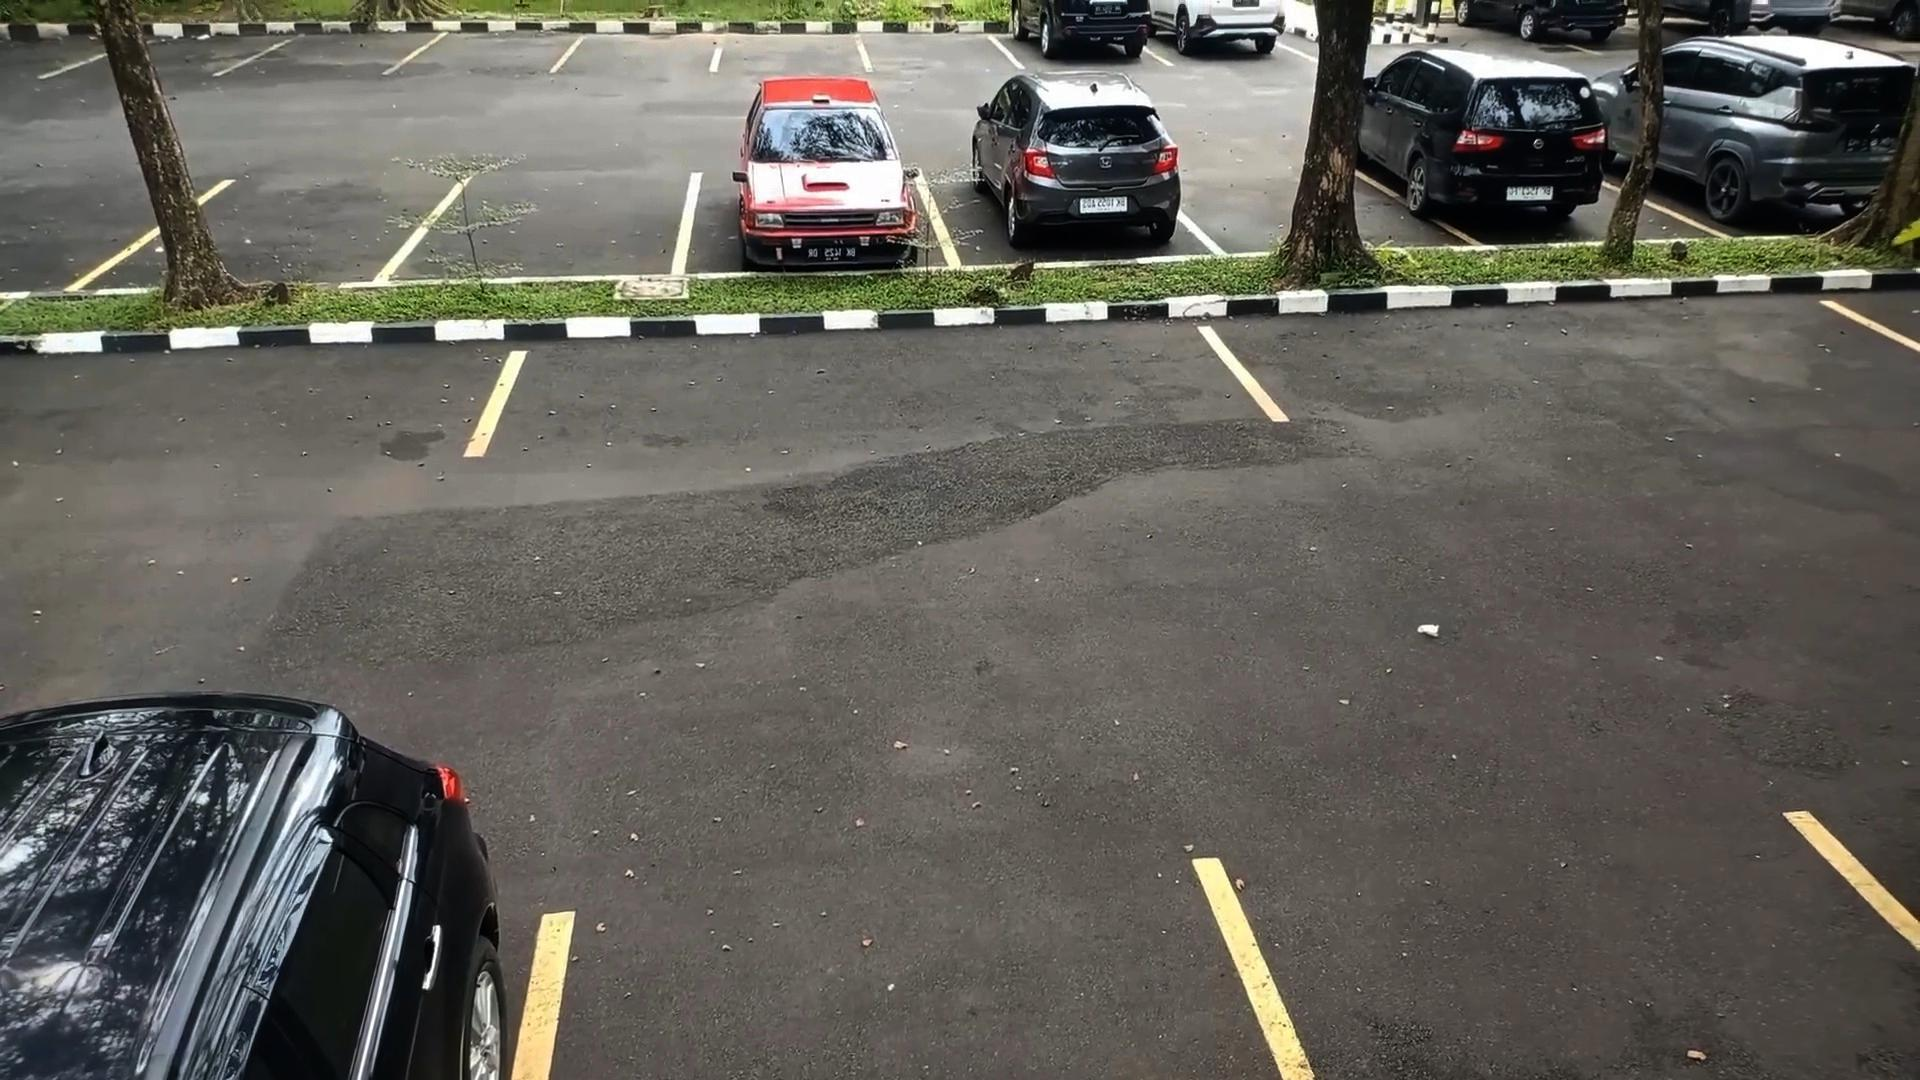empty: (485, 300, 1240, 446), (1244, 289, 1920, 437), (150, 167, 421, 289), (418, 160, 681, 276)
occupied: (1651, 53, 1896, 237), (1366, 70, 1622, 245), (938, 119, 1198, 262), (683, 153, 942, 274)
